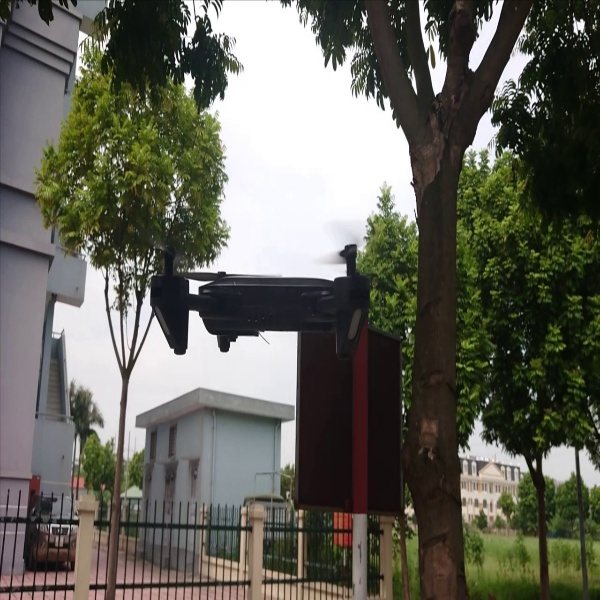drone: (135, 225, 380, 377)
